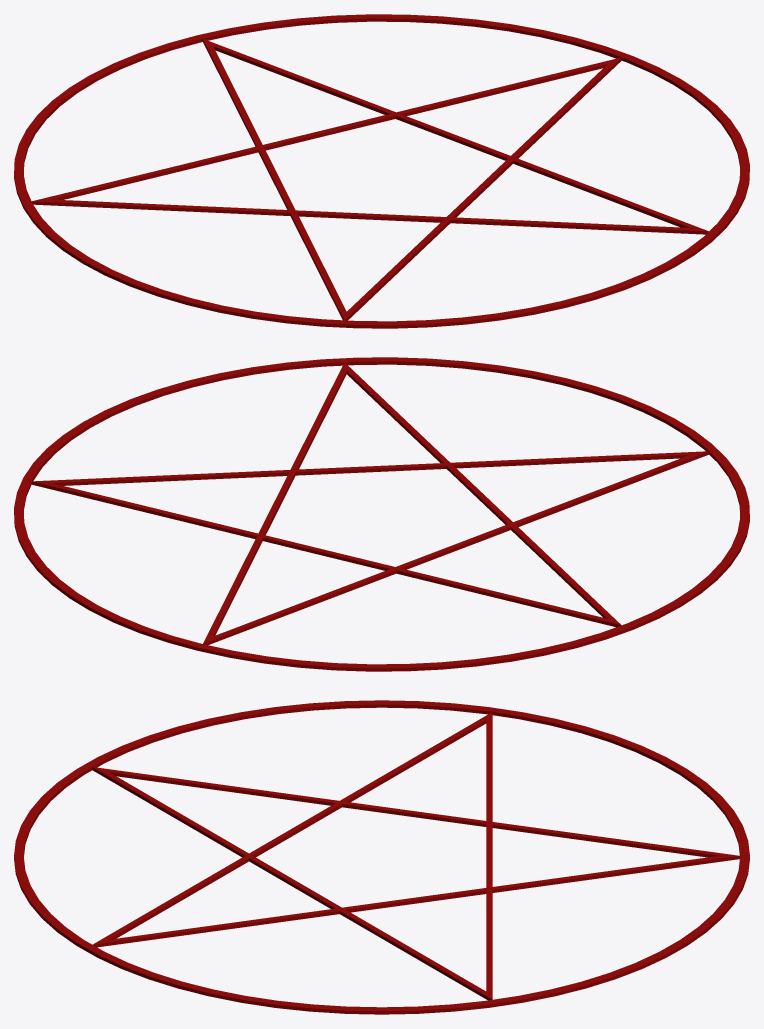
Rendered from Pentacle.fbx.
3 views of the same model, one above another, from view 1: azimuth 30°, elevation 25°; view 2: azimuth 150°, elevation 25°; view 3: azimuth 270°, elevation 25° (orthographic).
Visible parts, largest first — view 1: Circle; view 2: Circle; view 3: Circle.
Part boxes in pixels (x1,y1,x2,y2): Circle: [14, 14, 749, 328]; Circle: [14, 357, 749, 671]; Circle: [14, 700, 749, 1014].
Size of the model in its own units: 205 by 1 by 205.
